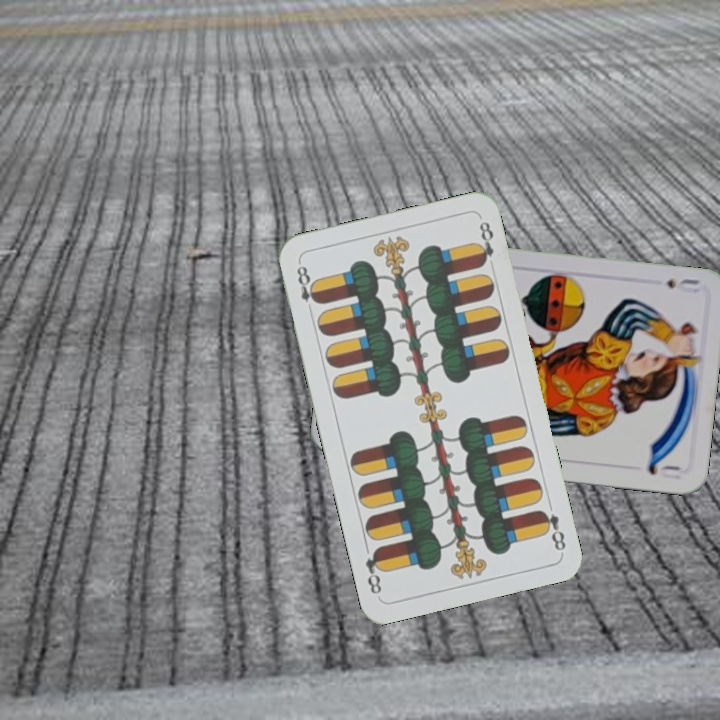E8: (292, 258, 322, 317), (535, 506, 569, 554)
SU: (662, 274, 702, 296)
